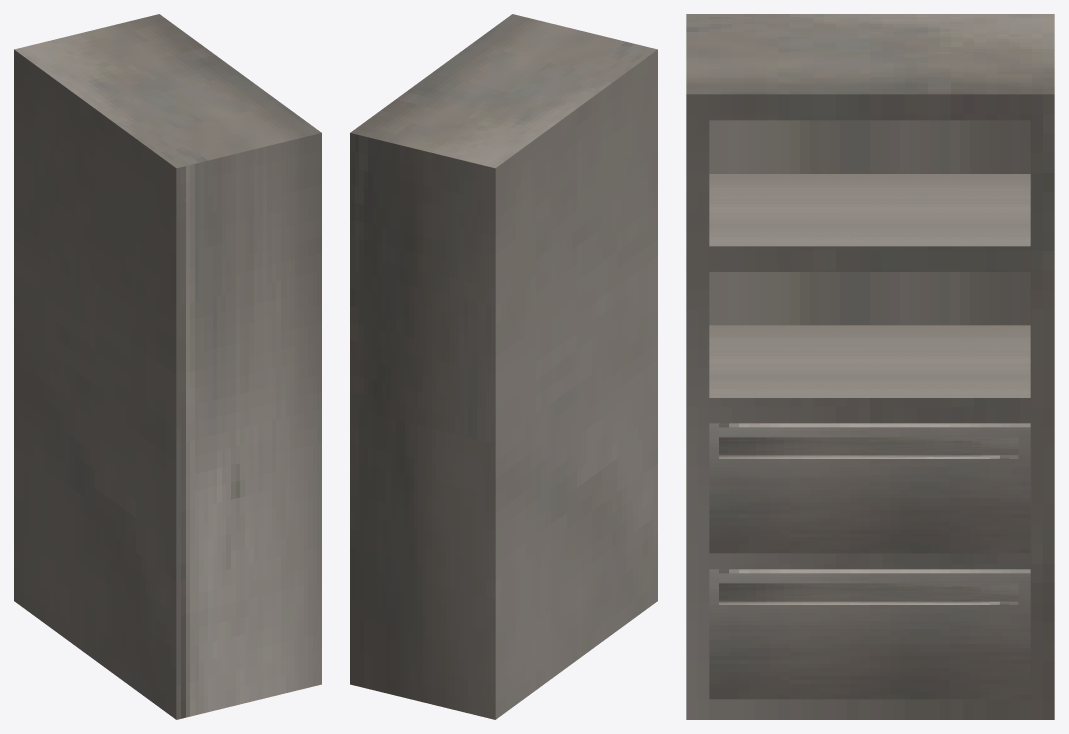
Rendered from board.glb.
3 views of the same model, side by side, from view 1: azimuth 30°, elevation 25°; view 2: azimuth 150°, elevation 25°; view 3: azimuth 270°, elevation 25° (orthographic). The views are drawn at different scales.
Visible parts, largest first — view 1: Board; view 2: Board; view 3: Board.
Boxes of the visible parts, x1,y1,x2,y2 form: Board: (14, 14, 321, 719); Board: (350, 14, 657, 719); Board: (686, 14, 1054, 719).
Bounding box in the file's own units: 0.9505 × 3.28 × 1.75.
1 material, 1 textured.
